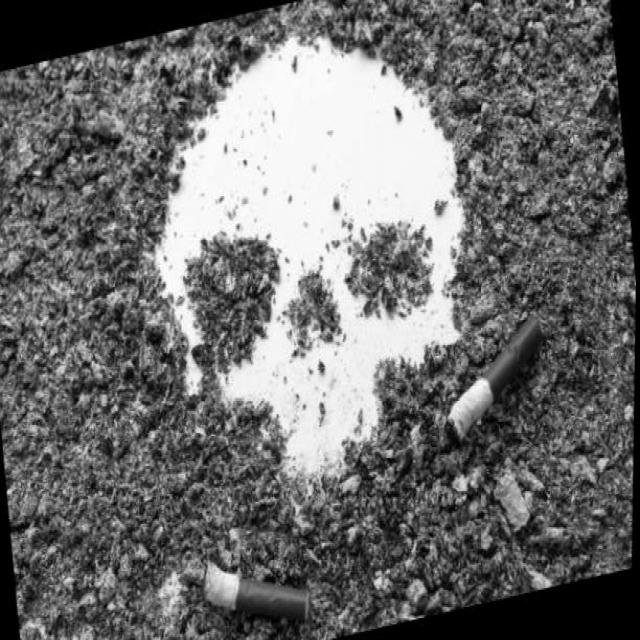cigarette: (439, 307, 557, 449), (197, 536, 318, 638)
